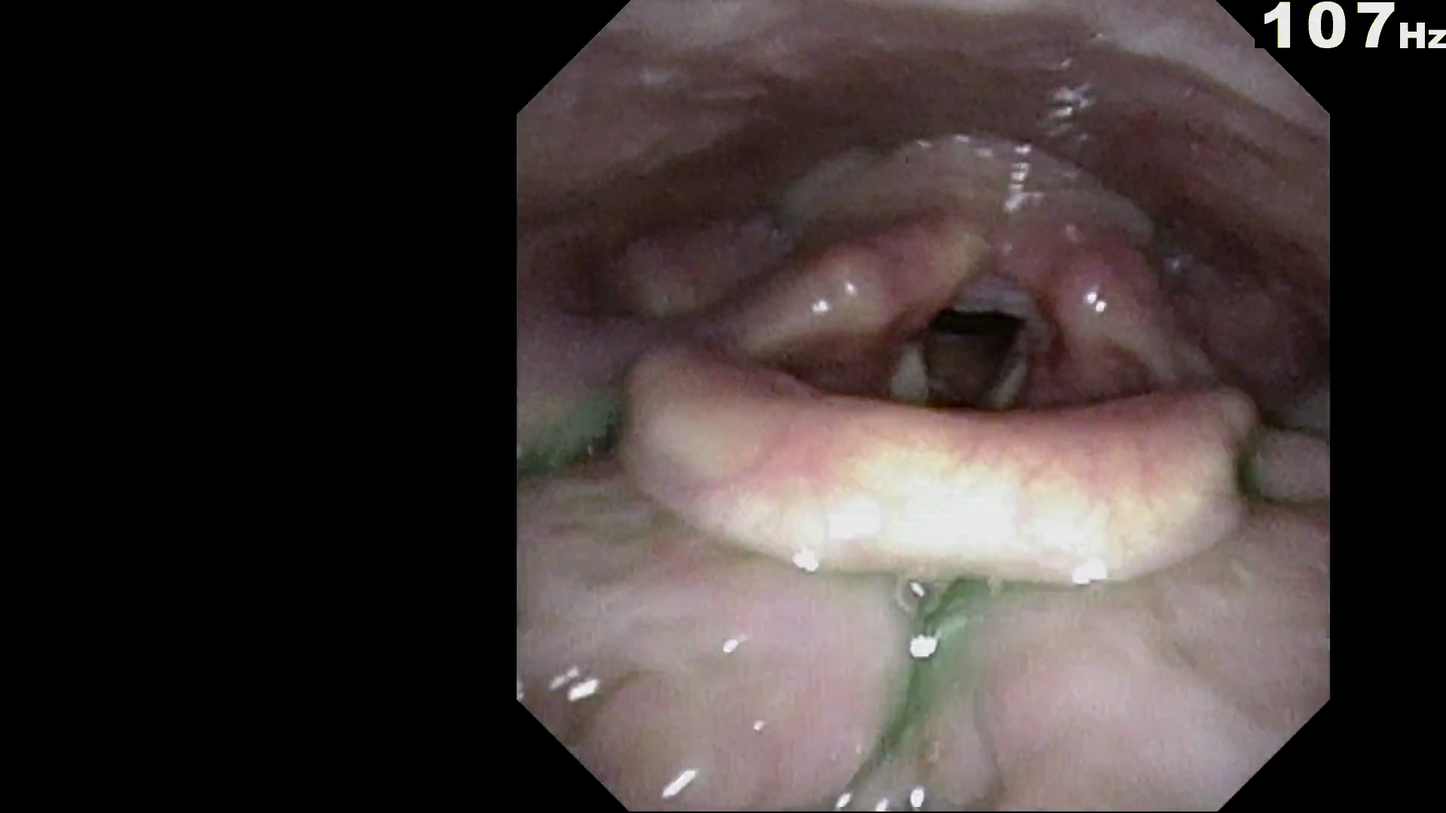epiglottis: (621, 335, 1280, 573)
trachea: (916, 286, 1027, 422)
